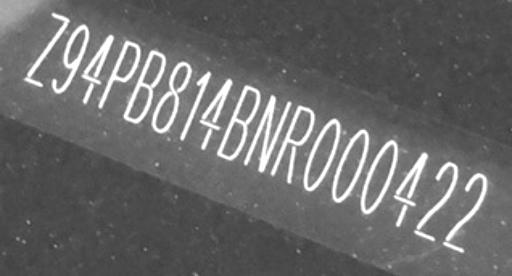letter: (18, 7, 72, 90), (118, 47, 170, 124), (414, 160, 460, 241), (443, 171, 489, 252), (244, 94, 292, 168), (269, 104, 317, 178), (72, 32, 118, 107), (150, 57, 194, 134), (94, 40, 142, 109), (218, 83, 260, 161), (46, 22, 92, 93), (388, 148, 428, 225), (330, 126, 370, 202), (360, 136, 398, 213), (303, 115, 341, 191), (176, 69, 214, 142), (198, 75, 234, 149)
